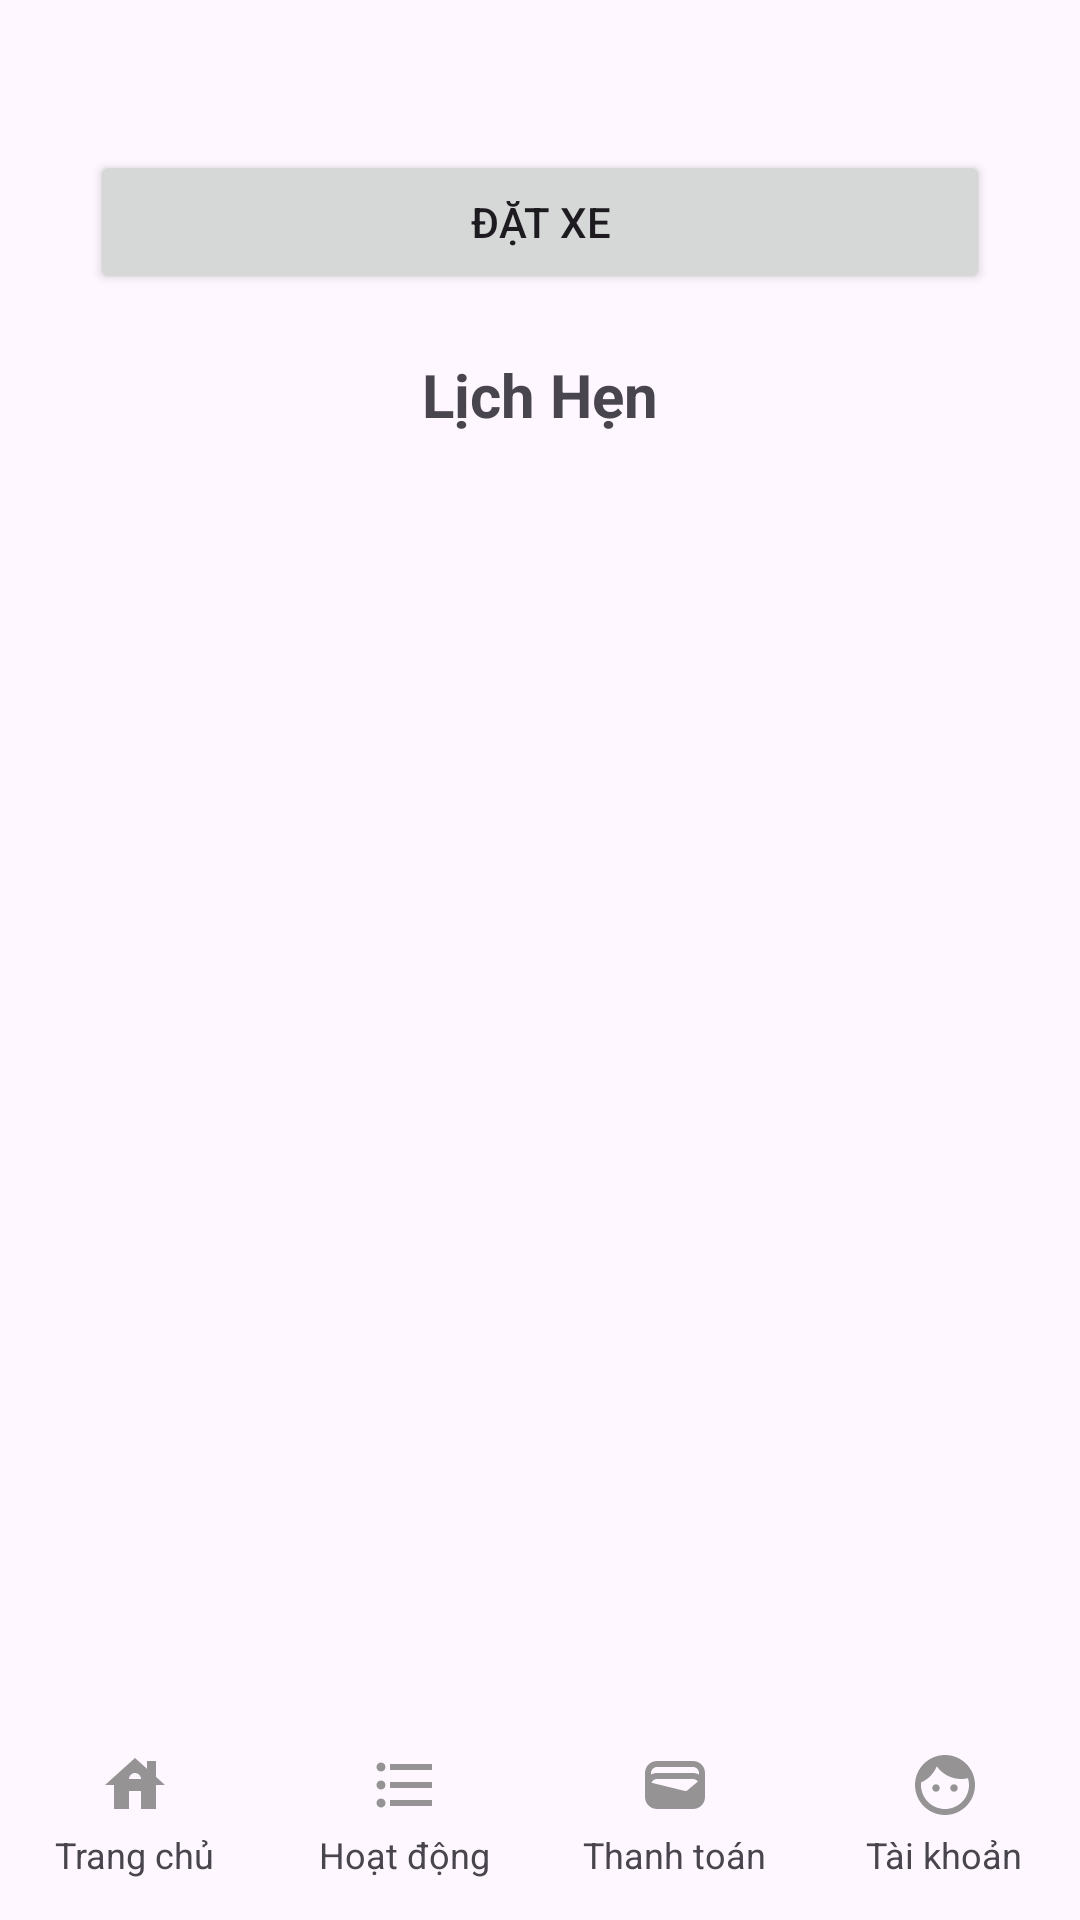

Icon bounding boxes for this 1080w x 1920h phone screenshot, format [x1=x1, y1=y1, x2=x2, y2=y2]:
face: [x1=915, y1=1755, x2=975, y2=1815]
house: [x1=105, y1=1758, x2=165, y2=1809]
list: [x1=376, y1=1762, x2=432, y2=1808]
wallet: [x1=645, y1=1761, x2=705, y2=1809]
